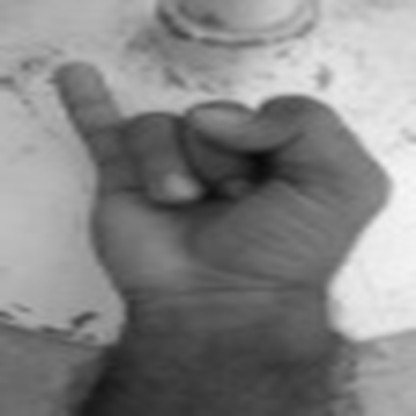i: (48, 53, 396, 309)
